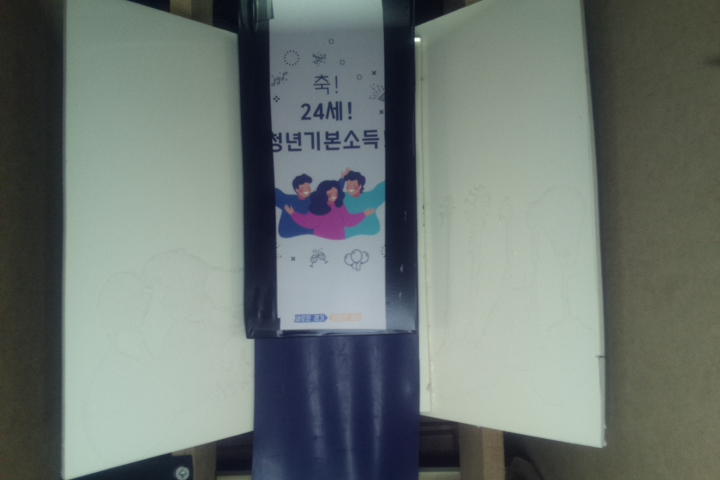book: (244, 1, 419, 337)
